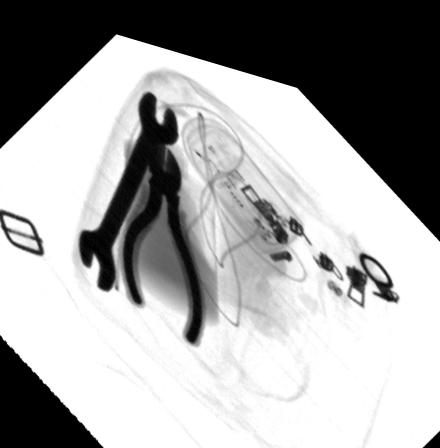Pliers: (119, 133, 203, 337)
Wrench: (78, 81, 182, 288)
